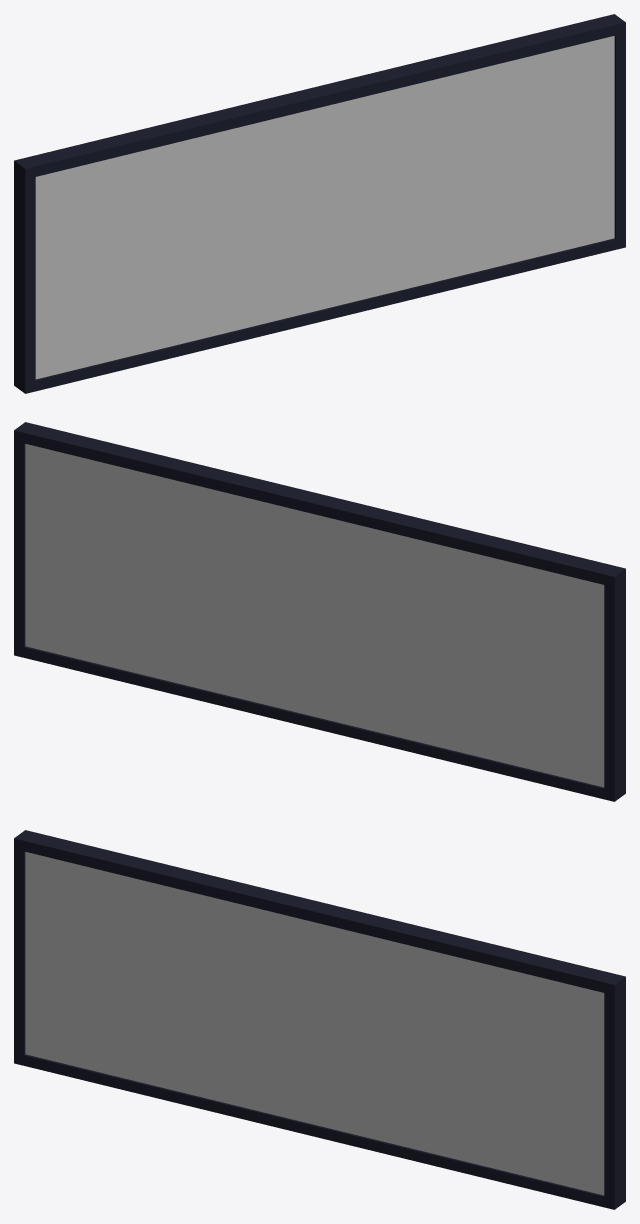
File: Sign_Laundromat02.fbx
The picture shows the model from 3 angles, top to bottom: view 1: azimuth 30°, elevation 25°; view 2: azimuth 150°, elevation 25°; view 3: azimuth 330°, elevation 25°; orthographic projection.
Visible parts, largest first — view 1: Cube.509; view 2: Cube.509; view 3: Cube.509.
Part boxes in pixels (box(x1,y1,x2,y2)): Cube.509: box(14, 14, 625, 393); Cube.509: box(14, 422, 625, 801); Cube.509: box(14, 830, 625, 1209).
Size of the model in its own units: 223 by 79.87 by 7.35.
